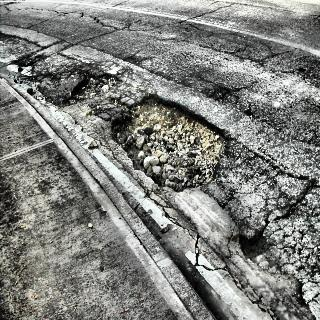pothole: (115, 88, 229, 194), (61, 67, 116, 119), (235, 231, 278, 266)
